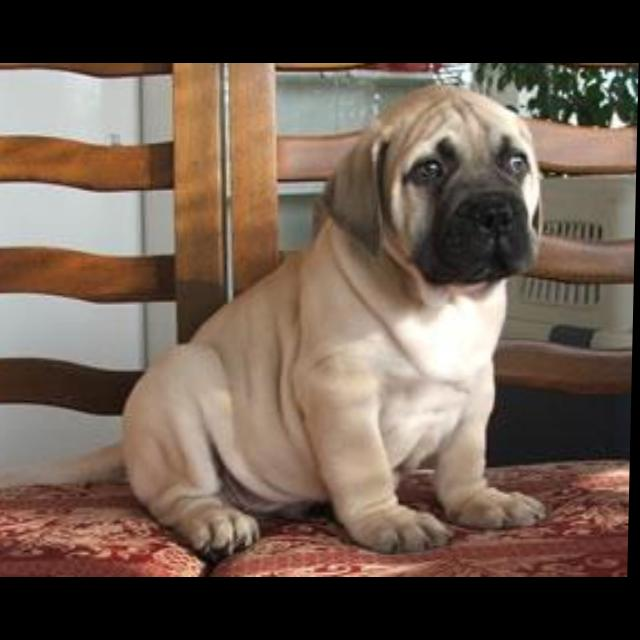bullmastiff: (1, 82, 559, 563)
